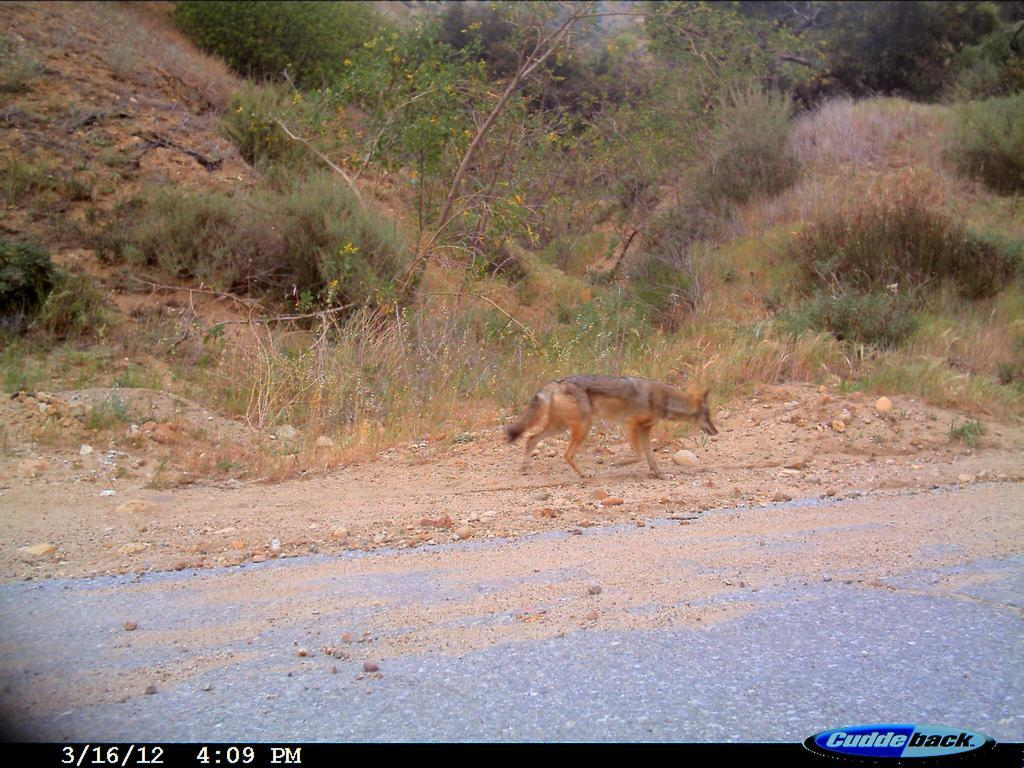coyote: (498, 367, 720, 497)
